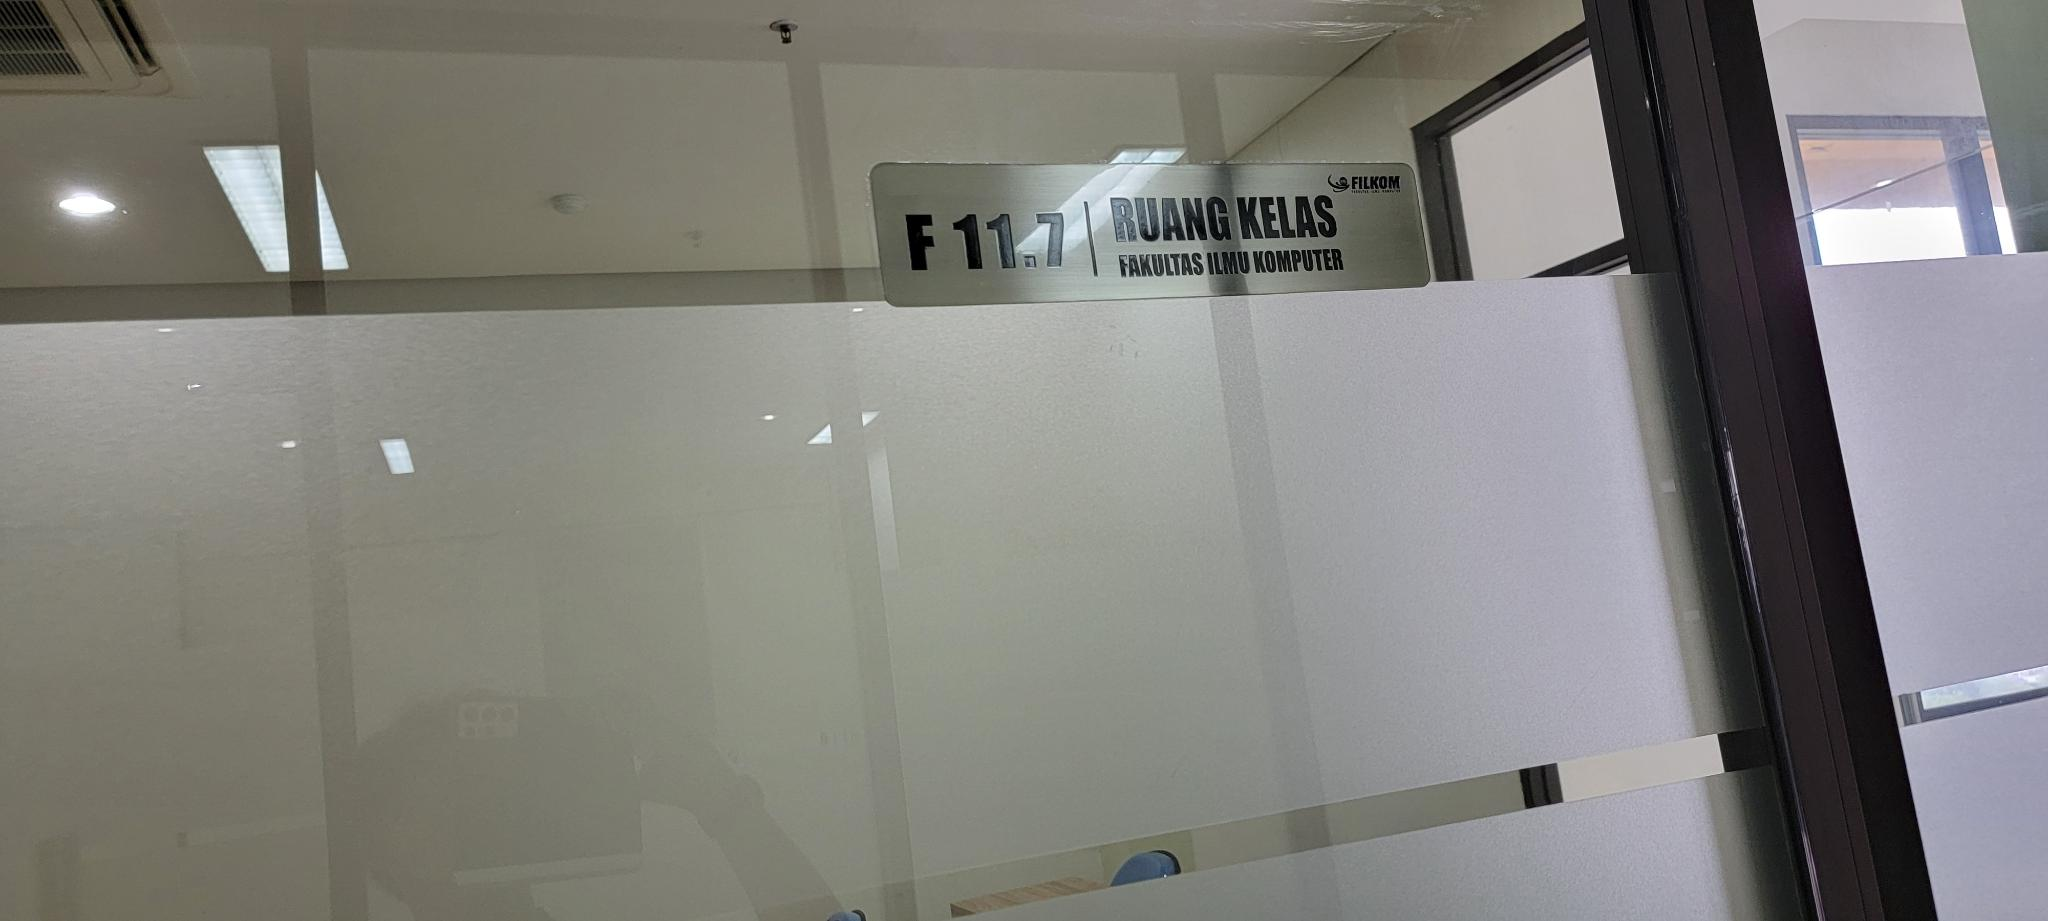plate: (866, 161, 1432, 311)
